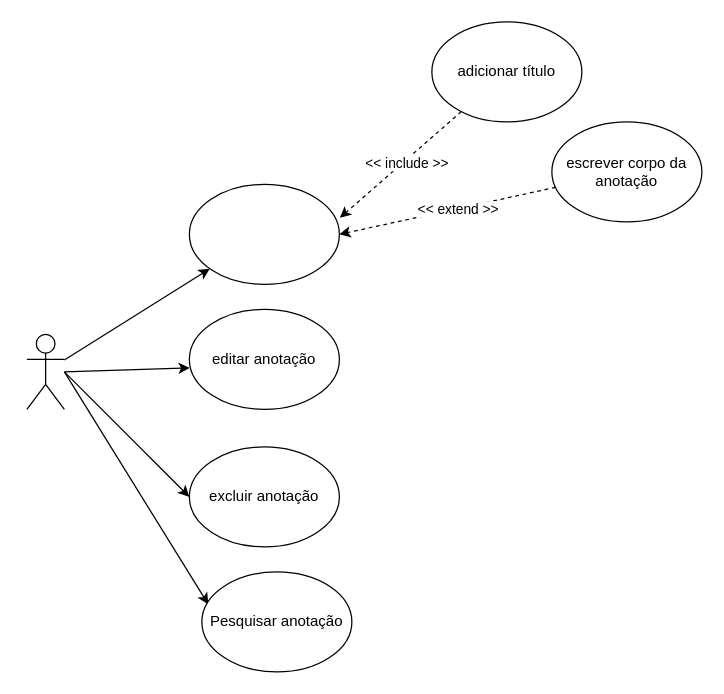
Some shapes in this 724 by 694 pixel diagram are drawn without their labels. The shapes that lost their labels are listed below. From the top down, each one's centre as x and y in pixels, then its label:
[263,233]: criar anotação
[45,371]: usuário
